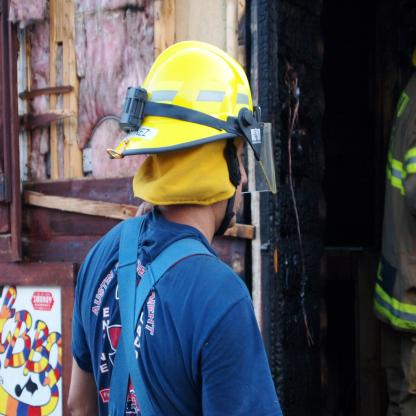Helmet: (112, 41, 258, 232)
